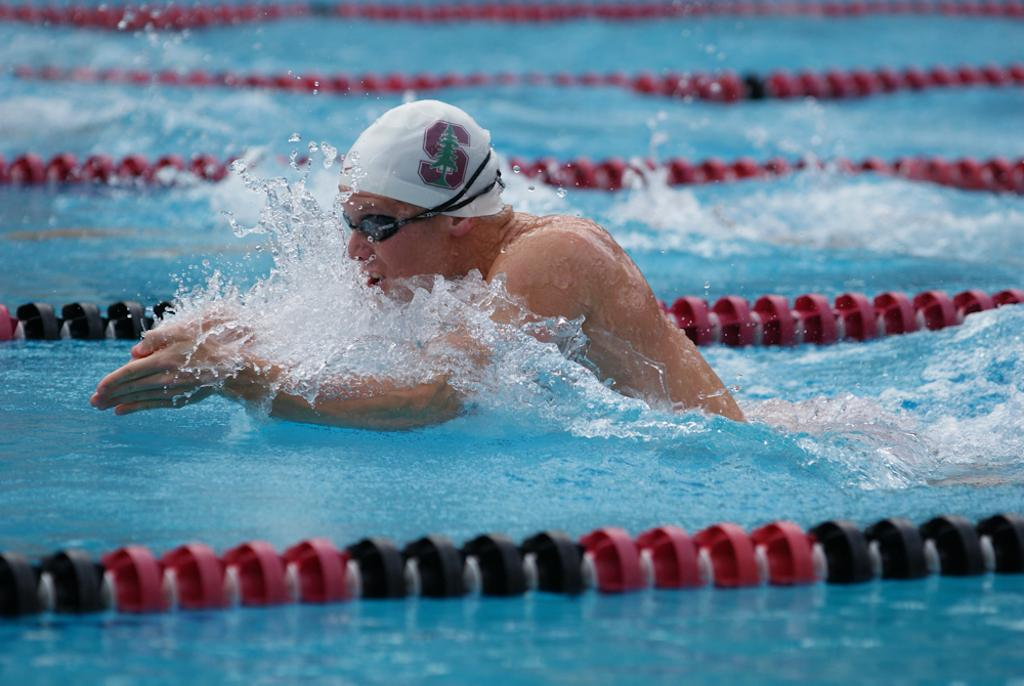face: (342, 182, 432, 308)
